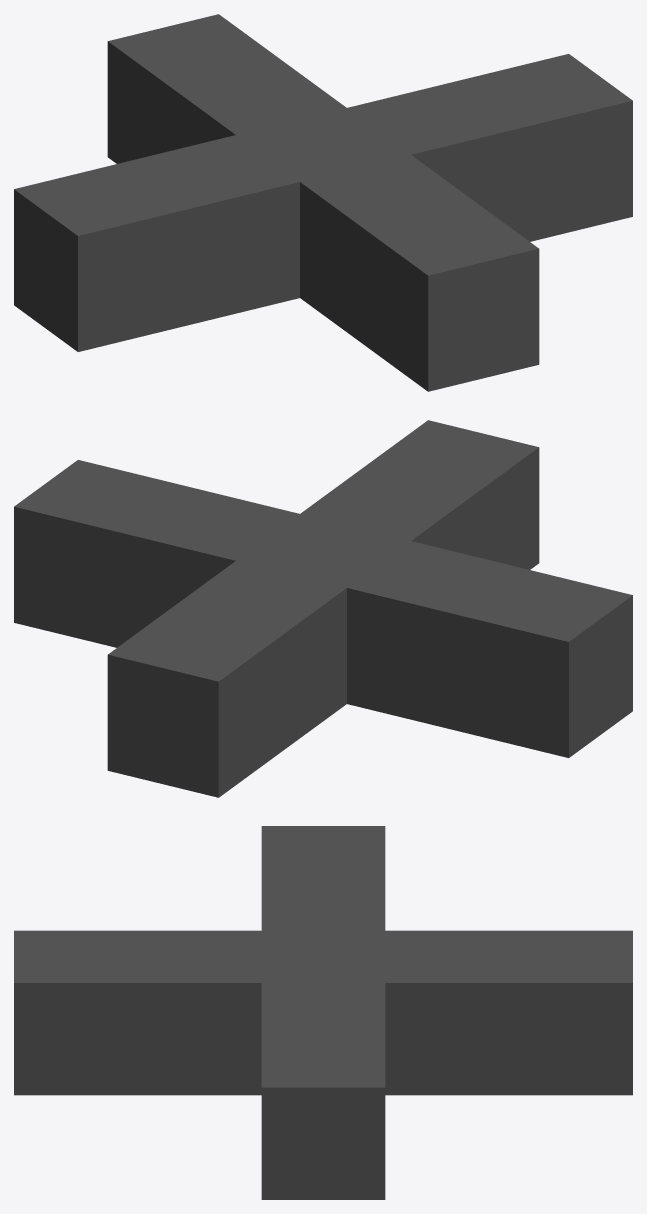
File: OrcaAircraftFan1.obj
3 renders of one model, top to bottom at view 1: azimuth 30°, elevation 25°; view 2: azimuth 150°, elevation 25°; view 3: azimuth 270°, elevation 25°, orthographic. The views are drawn at different scales.
Size of the model in its own units: 0.5 by 0.1 by 0.5.
Materials: 1 (1 with a texture image).
